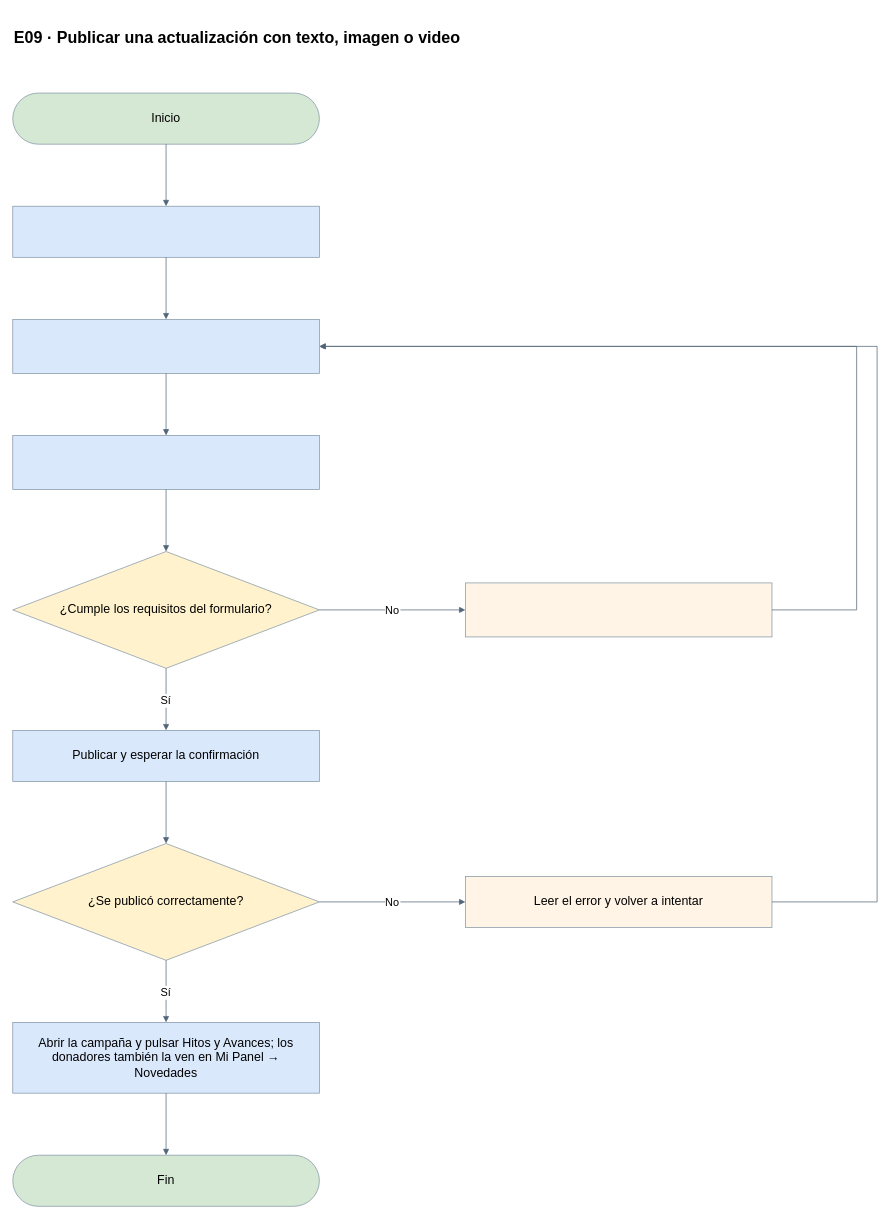
Some shapes in this 896 by 1219 pixel diagram are drawn without their labels. The shapes that lost their labels are listed below. From the top down, each one's box as (x1, y1, x2, y2) in pixels, then its label:
(12, 205, 319, 257): Elegir Publicar Novedad en la campaña
(12, 319, 319, 373): Ingresar título de al menos 3 caracteres y contenido de al menos 10
(12, 435, 319, 489): Elegir texto, imagen o video; adjuntar el archivo si corresponde
(465, 582, 772, 637): Completar título, contenido y archivo requerido
